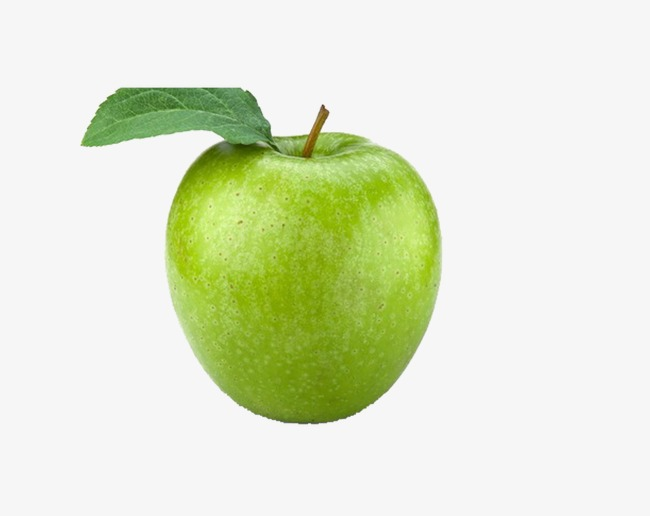apple: (92, 83, 449, 432)
